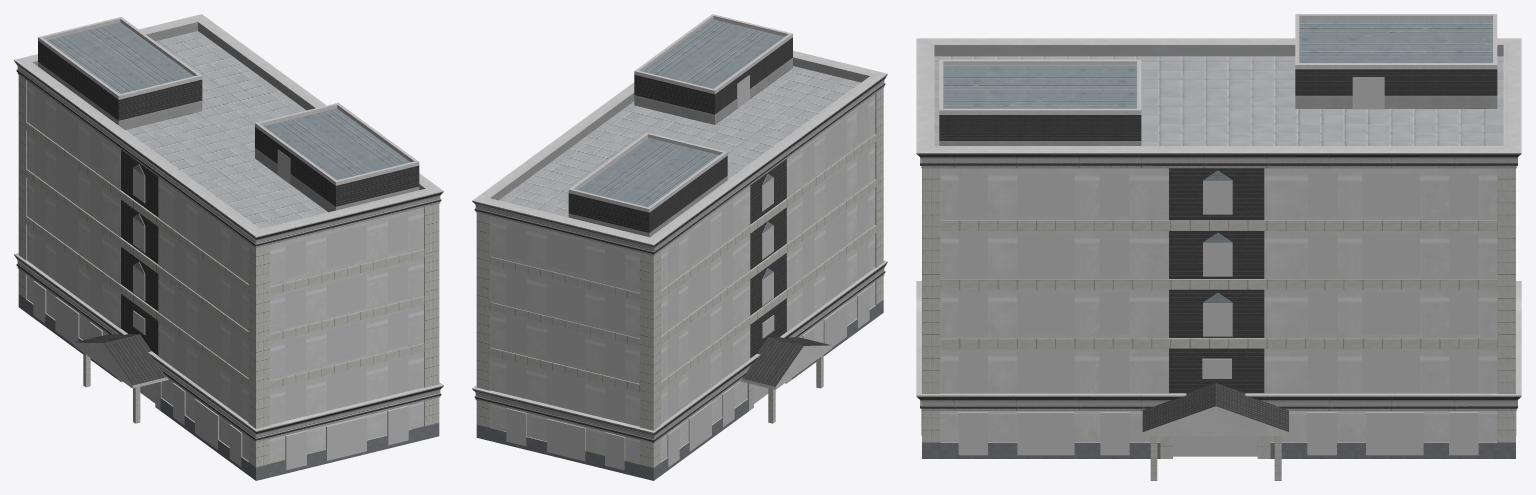
File: House_GV.fbx
The picture shows the model from 3 angles, left to right: view 1: azimuth 30°, elevation 25°; view 2: azimuth 150°, elevation 25°; view 3: azimuth 270°, elevation 25°; orthographic projection. The views are drawn at different scales.
Visible parts, largest first — view 1: HouseGV; view 2: HouseGV; view 3: HouseGV.
Boxes of the visible parts, x1=… form: HouseGV: x1=14, y1=14, x2=443, y2=480; HouseGV: x1=472, y1=14, x2=887, y2=480; HouseGV: x1=916, y1=14, x2=1521, y2=480.
Size of what is drawn, in the model's own units: 22.2 by 22.86 by 36.46.
